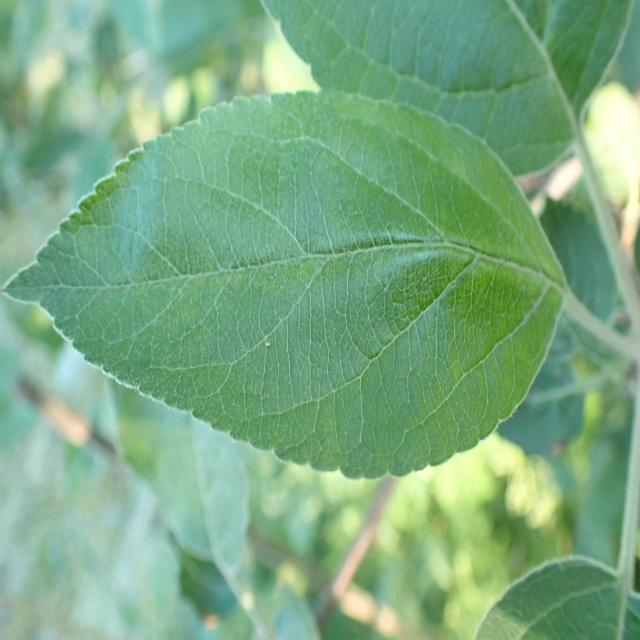healthy: (1, 90, 566, 481), (258, 0, 634, 179), (472, 553, 640, 639)
